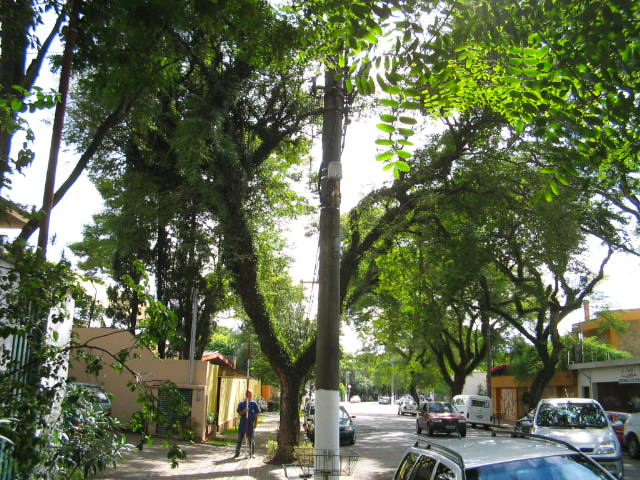stem: (265, 383, 313, 464)
stick: (242, 340, 255, 459)
tree: (184, 3, 479, 463)
